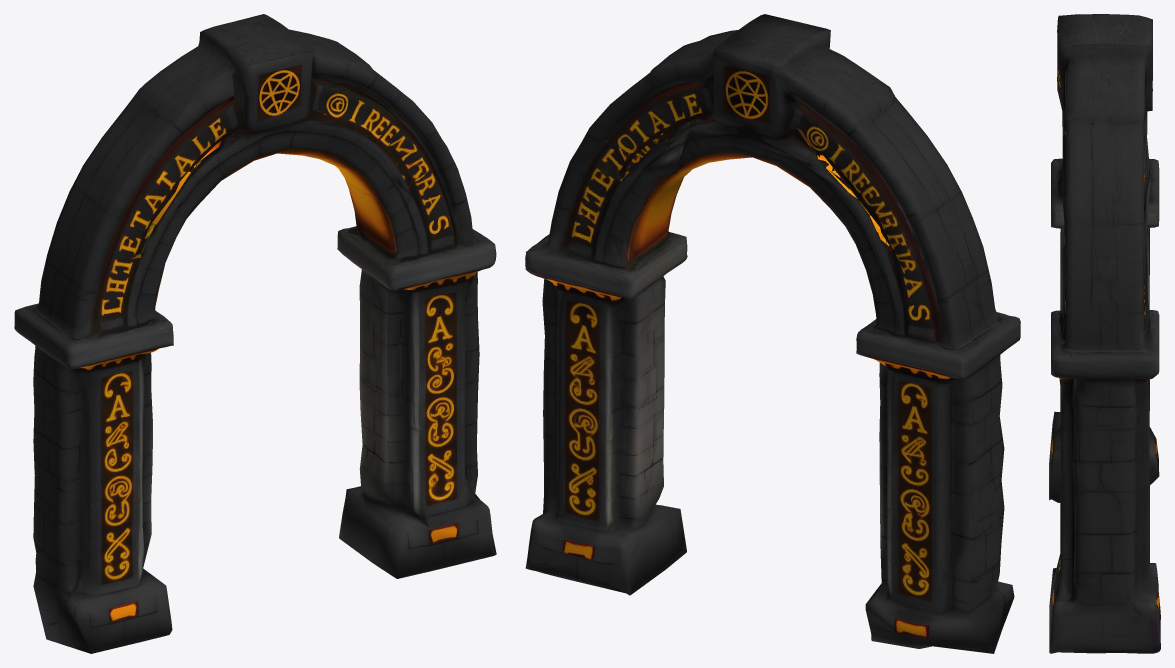
File: z0_archway.glb
3 views of the same model, side by side, from view 1: azimuth 30°, elevation 25°; view 2: azimuth 150°, elevation 25°; view 3: azimuth 270°, elevation 25° (orthographic). The views are drawn at different scales.
Size of the model in its own units: 1.57 by 1.91 by 0.3678.
1 material, 1 textured.
